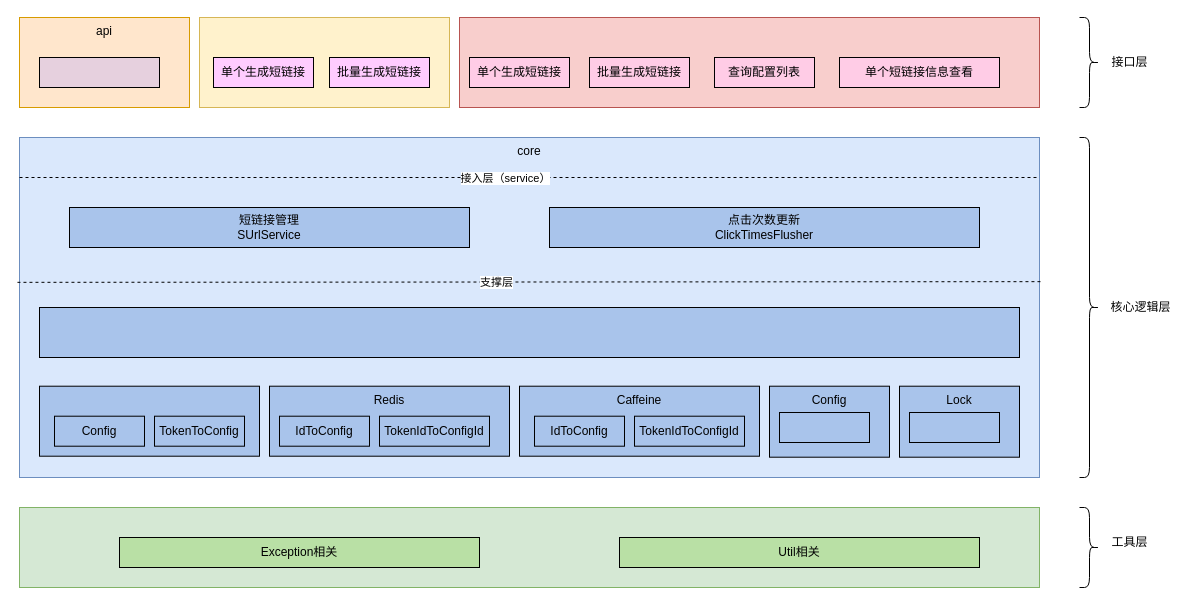
This 1198x605 diagram has some shape labels left out. The shapes that lost their labels are listed below. From the top down, each one's box as (x1, y1, x2, y2) in pixels, then its label:
(38, 56, 160, 88): 短链接重定向
(198, 16, 450, 108): service
(458, 16, 1040, 108): admin（待实现）
(38, 306, 1020, 358): 短链接相关数据 SUrlManager
(38, 385, 260, 456): MySQL
(778, 412, 870, 442): 各数据源配置
(908, 412, 1000, 442): DB并发控制
(18, 506, 1040, 588): common
